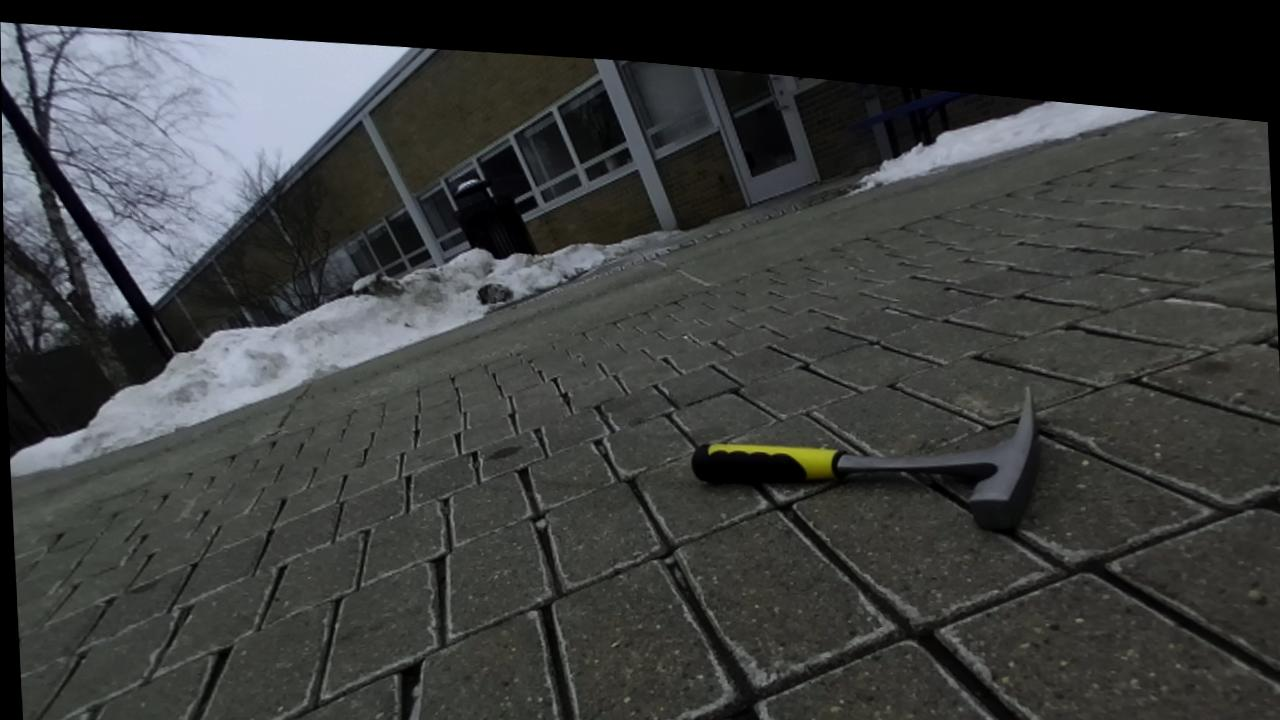pick: (693, 388, 1038, 531)
